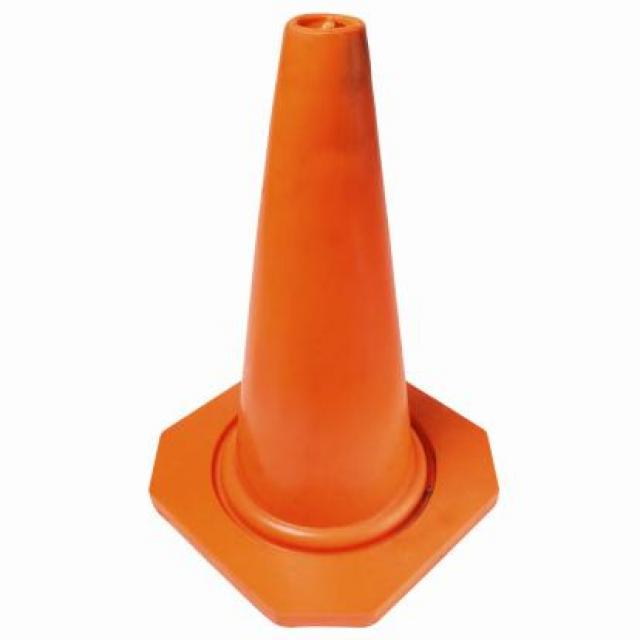Cone: (141, 11, 502, 631)
